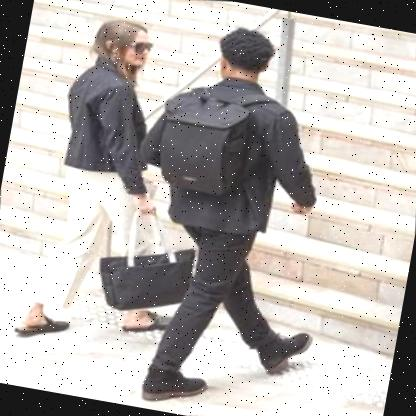bag: (143, 74, 270, 215), (86, 199, 210, 328)
person: (101, 3, 367, 416), (3, 4, 184, 360)
